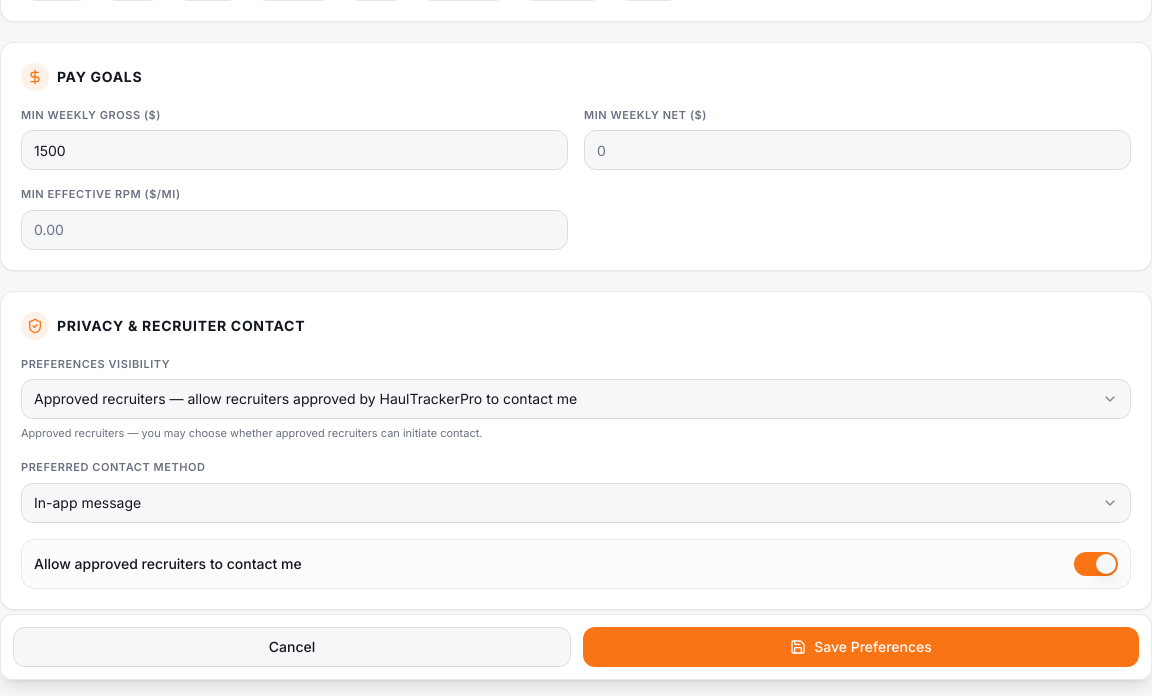
Test: Phase 1N-C · Fail-closed recruiter-contact privacy › switching verified_recruiters → apply_only clears + disables contact
(page scrolled)
Click the 1st dropdown at (576, 399), box [21, 379, 1131, 419]
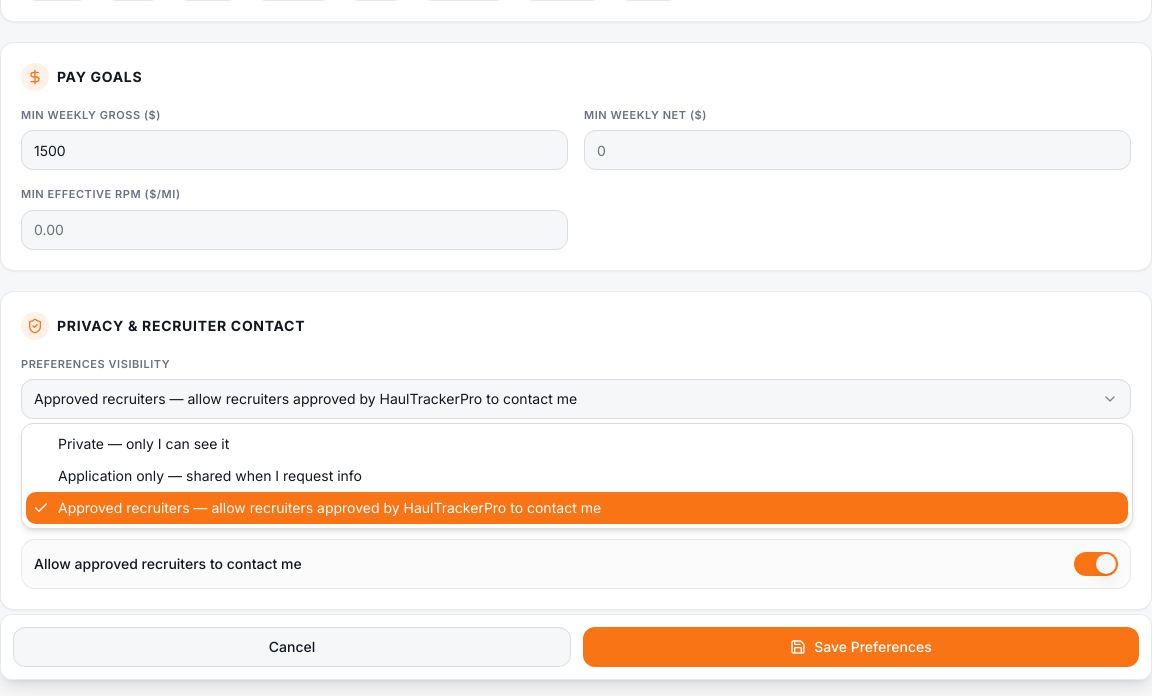
Click the option "Application only — shared when I request info" at (210, 476), box [58, 467, 362, 484]
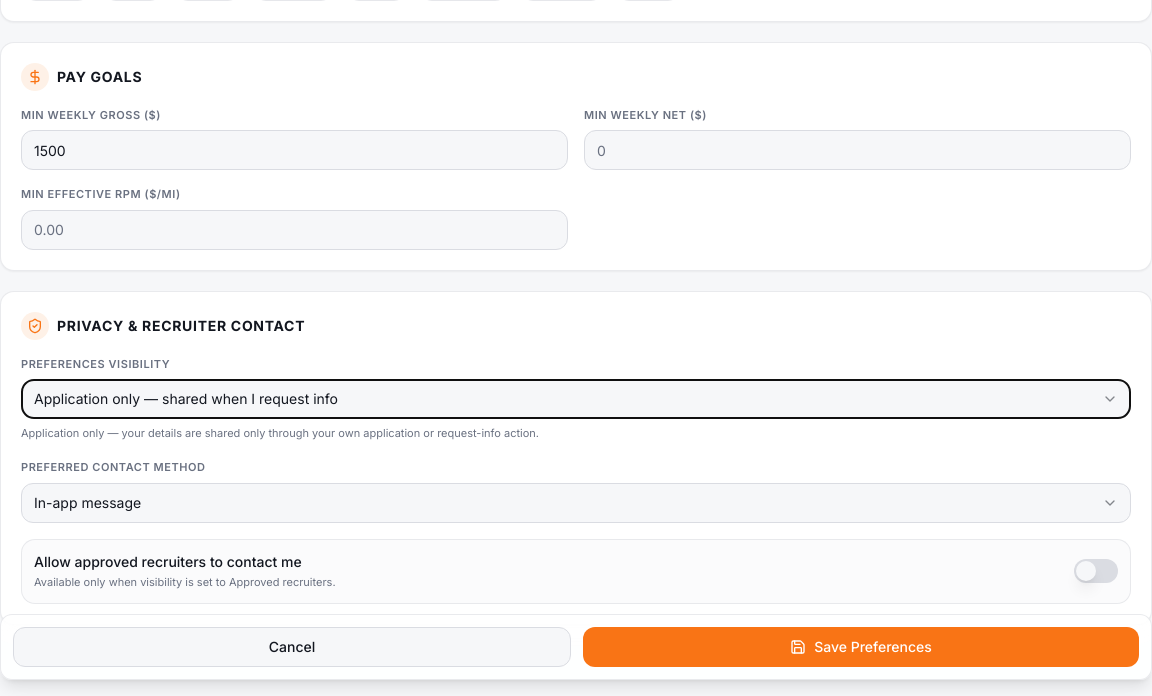
Expected: the switch named "Allow approved recruiters to contact me" is disabled, [1074, 559, 1118, 583]
